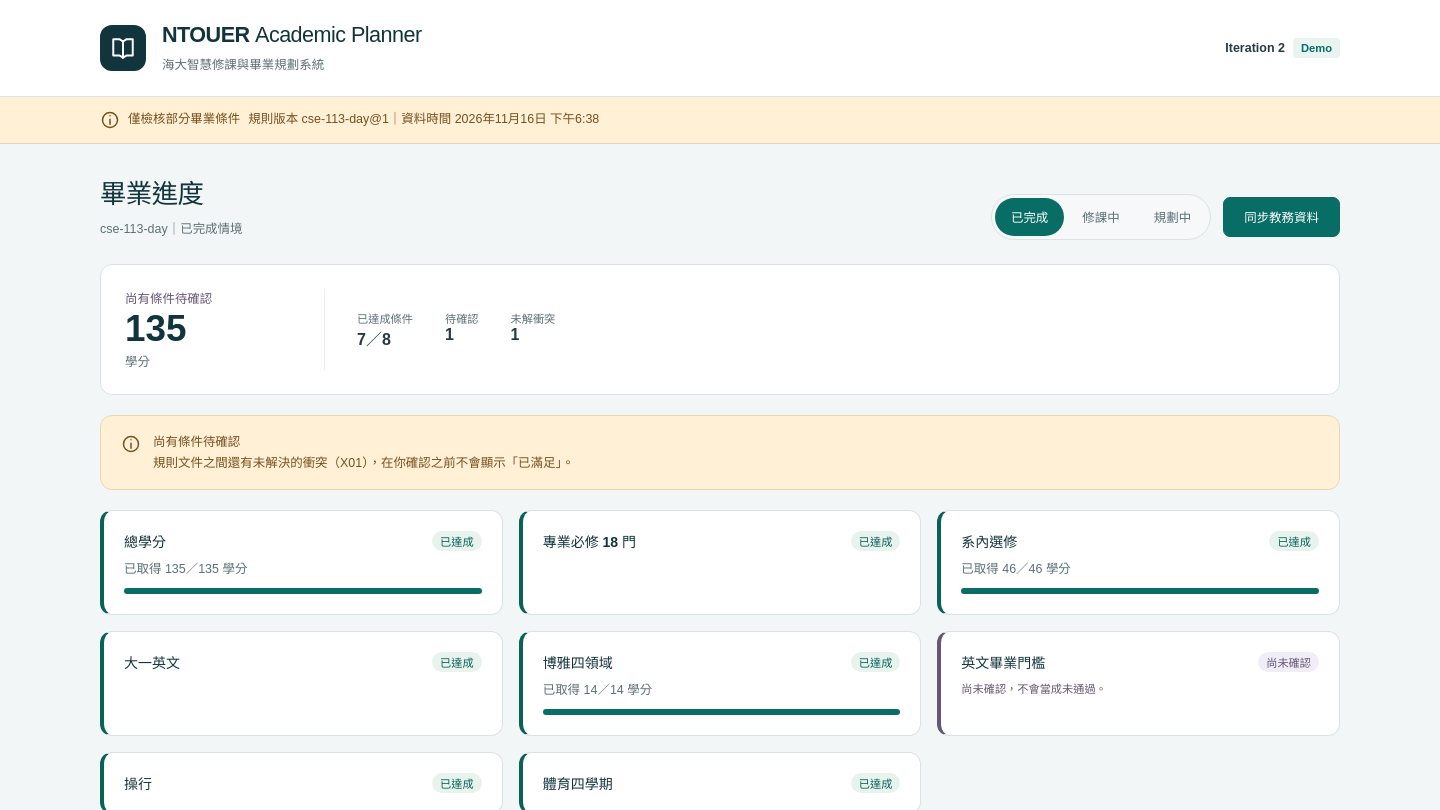
Test: 學生端進度頁（UI-02） › 「同步教務資料」按鈕會開啟對話框
The width and height of the screenshot is (1440, 810).
Expected: the heading "畢業進度" is shown, [100,179,204,209]
Click the button "同步教務資料". click: click(1282, 217)
box: [1223,197,1340,237]
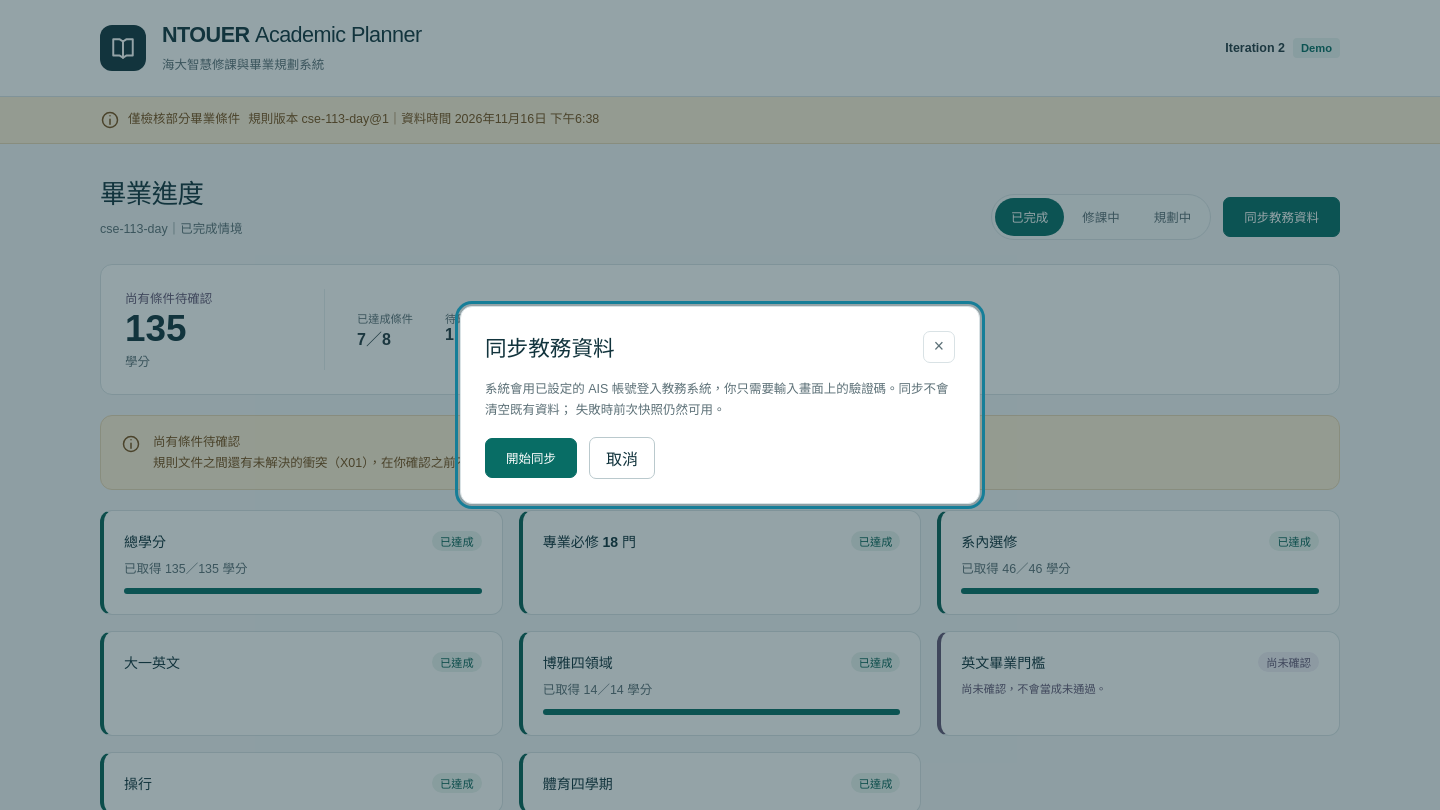
Now the dialog is shown, box [460,306,980,504]
Now the heading "同步教務資料" is shown, box [485,331,615,362]
